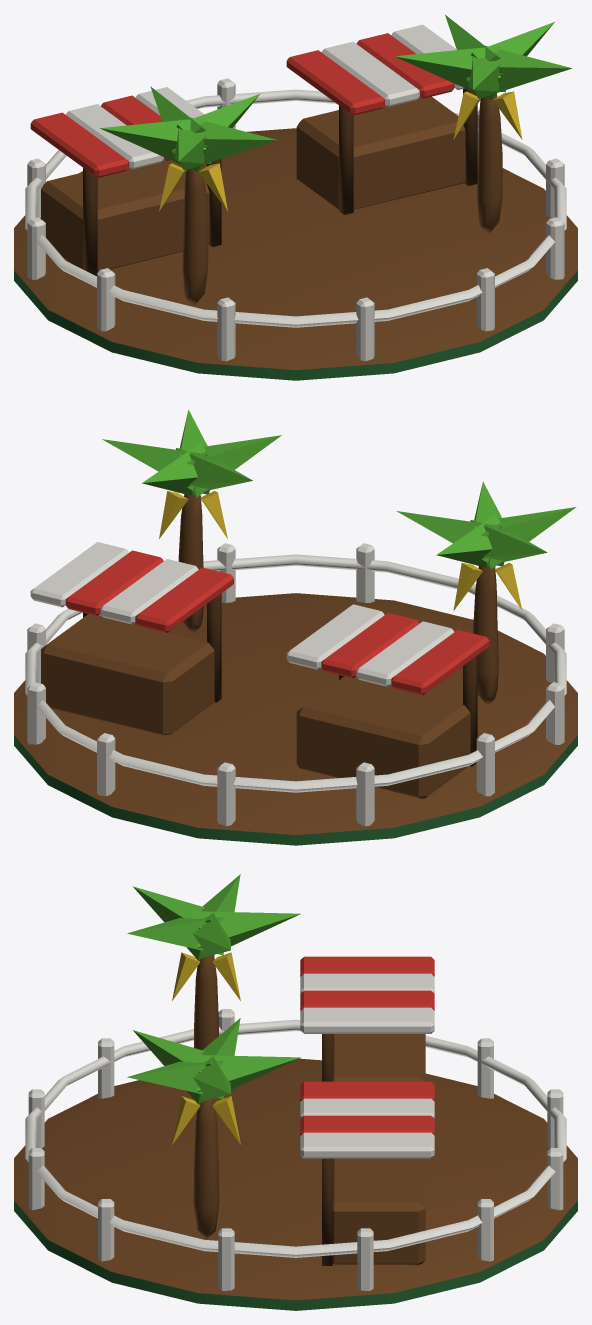
3 views of the same model, one above another, from view 1: azimuth 30°, elevation 25°; view 2: azimuth 150°, elevation 25°; view 3: azimuth 270°, elevation 25° (orthographic).
Visible parts, largest first — view 1: fazenda_0_base; view 2: fazenda_0_base; view 3: fazenda_0_base.
Boxes of the visible parts, bbox=[...] form: fazenda_0_base: bbox=[14, 14, 577, 380]; fazenda_0_base: bbox=[14, 409, 577, 845]; fazenda_0_base: bbox=[14, 874, 577, 1310].
Bounding box in the file's own units: 1.28 × 0.5151 × 1.26.
